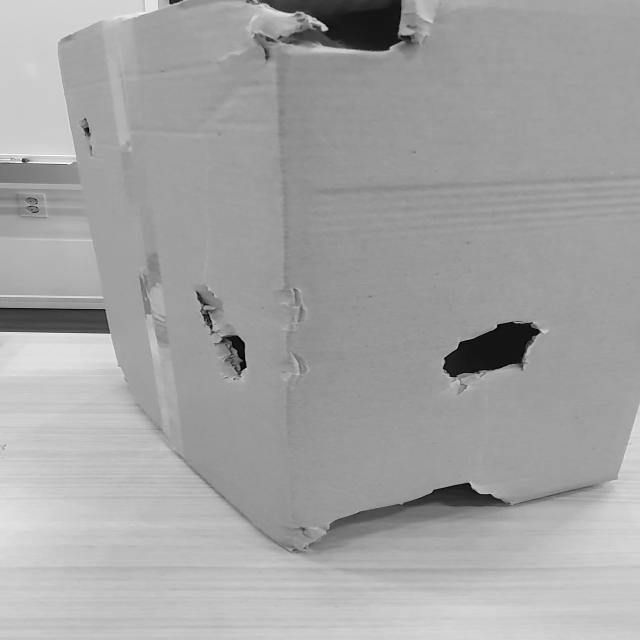hole: (245, 0, 431, 56), (307, 479, 523, 527), (426, 314, 557, 379), (172, 299, 271, 382), (71, 110, 100, 160)
